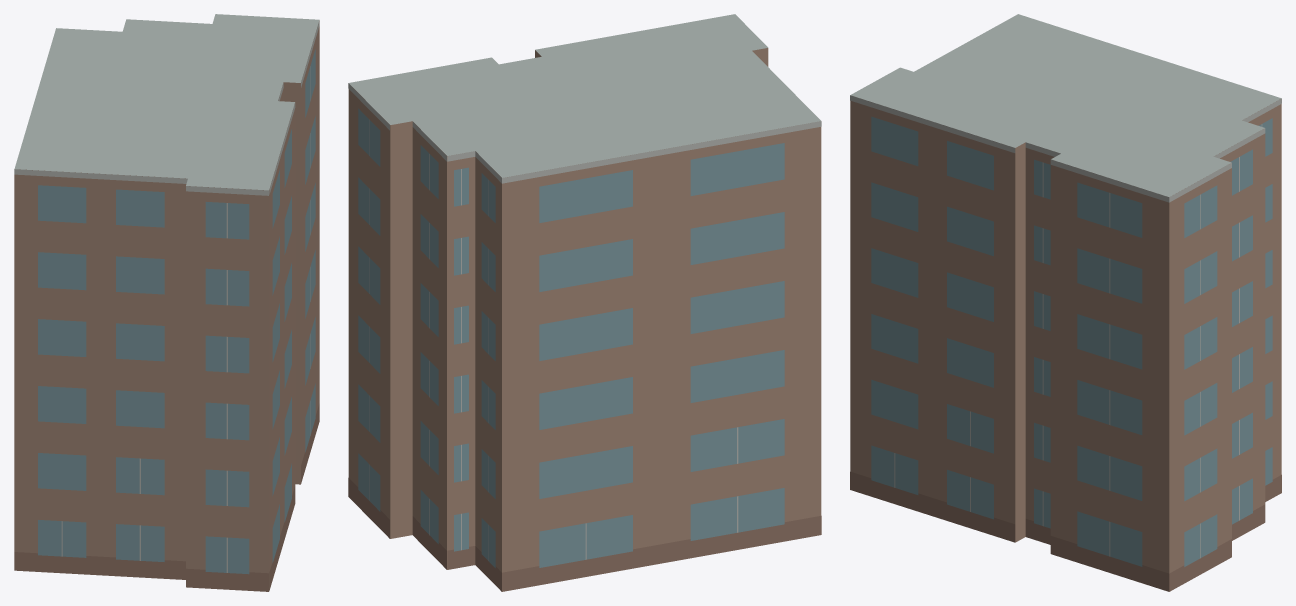
File: survey-upis-32631766.glb
3 views of the same model, side by side, from view 1: azimuth 30°, elevation 25°; view 2: azimuth 150°, elevation 25°; view 3: azimuth 270°, elevation 25° (orthographic). The views are drawn at different scales.
Visible parts, largest first — view 1: survey-upis-32631766.tmp; view 2: survey-upis-32631766.tmp; view 3: survey-upis-32631766.tmp.
Boxes of the visible parts, box(x1,y1,x2,y2) form: survey-upis-32631766.tmp: box(14, 14, 319, 591); survey-upis-32631766.tmp: box(348, 14, 821, 591); survey-upis-32631766.tmp: box(850, 14, 1281, 591).
Size of the model in its own units: 17.78 by 17.85 by 17.7.
